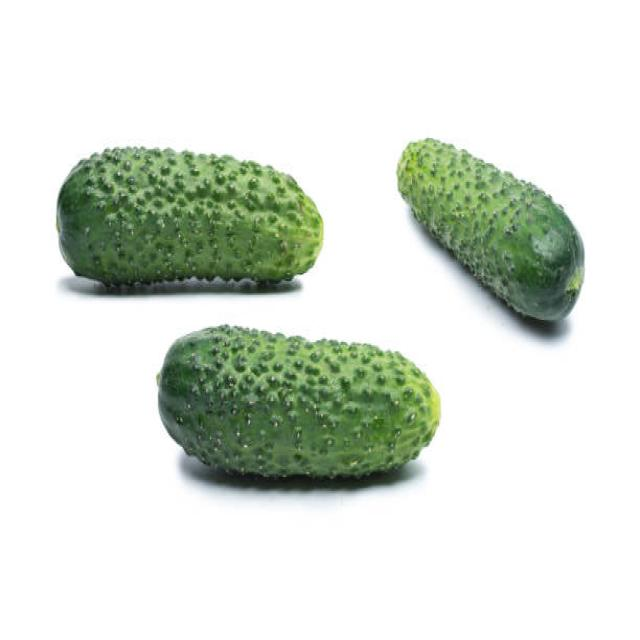cucumber: (159, 323, 441, 483), (56, 145, 324, 293), (396, 138, 584, 326)
